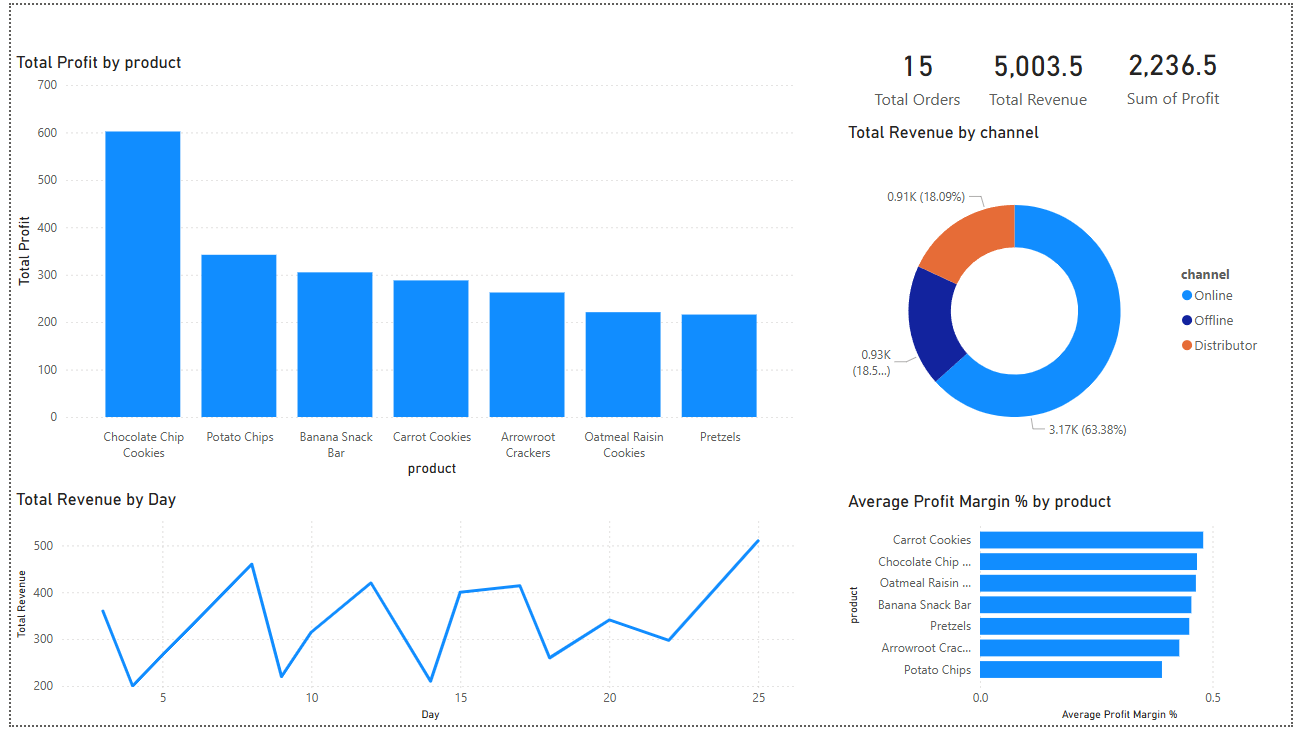

Layout of this report page (visuals, bound fields, positions):
{"tool":"powerbi","page":{"name":"Page 1","canvas":[1280,720],"ordinal":0},"visuals":[{"type":"card","fields":{"Values":["company_sales_realistic.Total Revenue"]},"box":[960,11,134,116.7],"z":0},{"type":"card","fields":{"Values":["Sum(company_sales_realistic.Profit)"]},"box":[1094,20.5,135.6,96.2],"z":1},{"type":"card","fields":{"Values":["company_sales_realistic.Total Orders"]},"box":[852.8,23.6,107.2,91.4],"z":2},{"type":"clusteredColumnChart","fields":{"Category":["company_sales_realistic.product"],"Y":["company_sales_realistic.Total Profit"]},"box":[0,47.3,791.3,428.8],"z":3},{"type":"donutChart","fields":{"Category":["company_sales_realistic.channel"],"Y":["company_sales_realistic.Total Revenue"]},"box":[832.3,116.7,428.8,359.4],"z":4},{"type":"lineChart","fields":{"Category":["company_sales_realistic.order_date.Variation.Date Hierarchy.Day"],"Y":["company_sales_realistic.Total Revenue"]},"box":[0,485.5,791.3,234.9],"z":5},{"type":"barChart","fields":{"Category":["company_sales_realistic.product"],"Y":["company_sales_realistic.Rata-rata Profit Margin %"]},"box":[832,486,429,234],"z":6}]}

Visuals, with their boxes in screenshot pixels (x1, y1, x2, y2), scaled from the page's 1280x720 canvas onto the 1296x729 screenshot:
card - company_sales_realistic.Total Revenue: l=972, t=11, r=1108, b=129
card - Sum(company_sales_realistic.Profit): l=1108, t=21, r=1245, b=118
card - company_sales_realistic.Total Orders: l=863, t=24, r=972, b=116
clusteredColumnChart - company_sales_realistic.product x company_sales_realistic.Total Profit: l=0, t=48, r=801, b=482
donutChart - company_sales_realistic.channel x company_sales_realistic.Total Revenue: l=843, t=118, r=1277, b=482
lineChart - company_sales_realistic.order_date.Variation.Date Hierarchy.Day x company_sales_realistic.Total Revenue: l=0, t=492, r=801, b=728
barChart - company_sales_realistic.product x company_sales_realistic.Rata-rata Profit Margin %: l=842, t=492, r=1277, b=728
